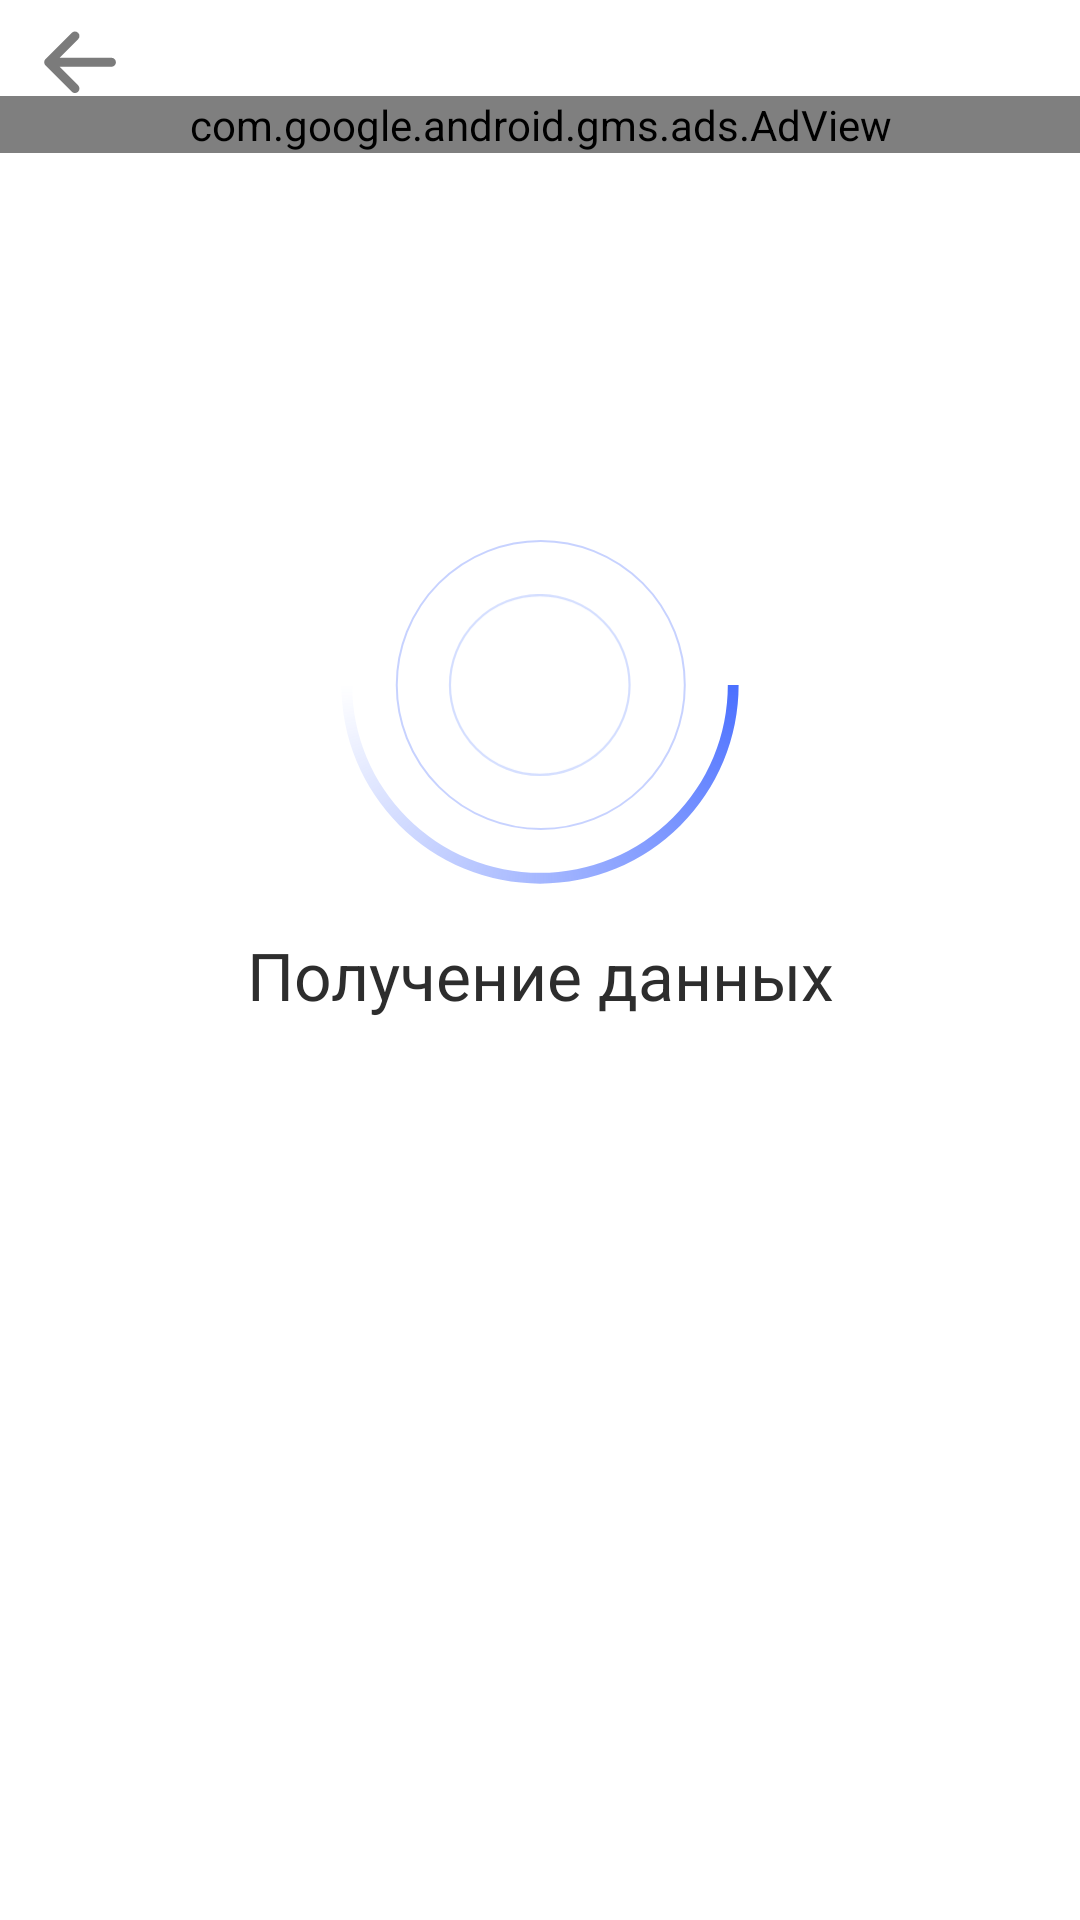

Icons on this 1080px x 1920px Android screen, each with its box as {"x1": x1, "y1": y1, "x2": x2, "y2": y2}:
back: {"x1": 44, "y1": 31, "x2": 116, "y2": 93}
